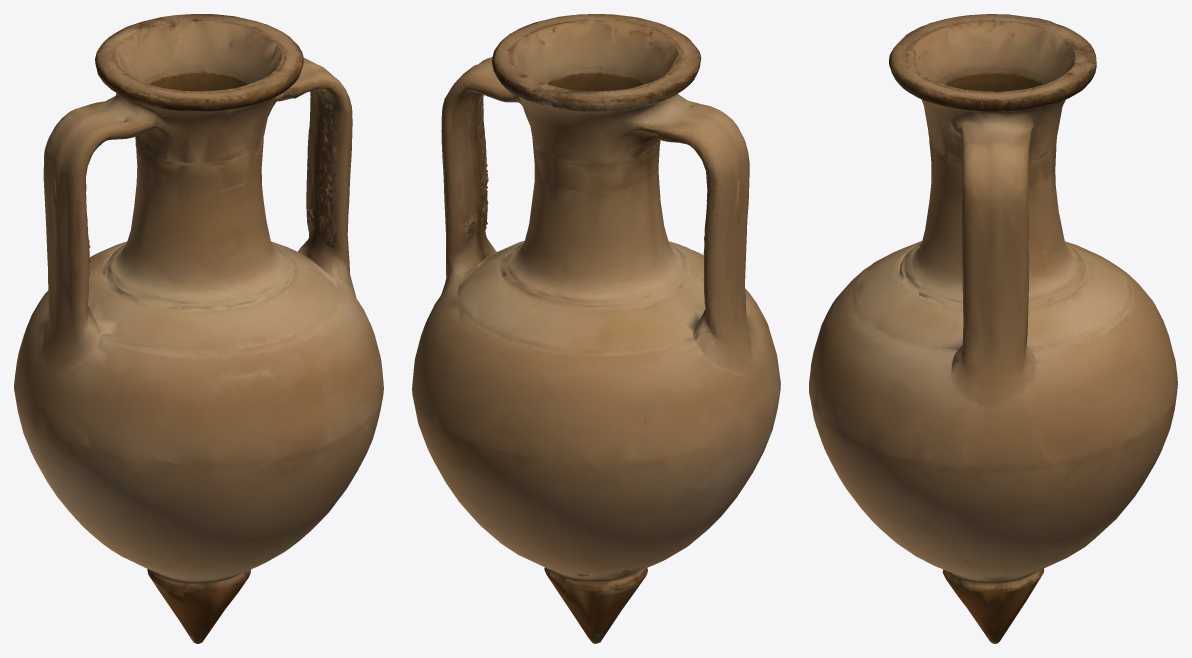
The model's file is baetulo-anfora.glb.
The picture shows the model from 3 angles, left to right: view 1: azimuth 30°, elevation 25°; view 2: azimuth 150°, elevation 25°; view 3: azimuth 270°, elevation 25°; orthographic projection.
Visible parts, largest first — view 1: geometry_0; view 2: geometry_0; view 3: geometry_0.
Boxes of the visible parts, x1,y1,x2,y2 form: geometry_0: [14, 14, 383, 643]; geometry_0: [412, 14, 780, 643]; geometry_0: [809, 14, 1177, 643].
Bounding box in the file's own units: 0.5708 × 1 × 0.5706.
Materials: 1 (1 with a texture image).
